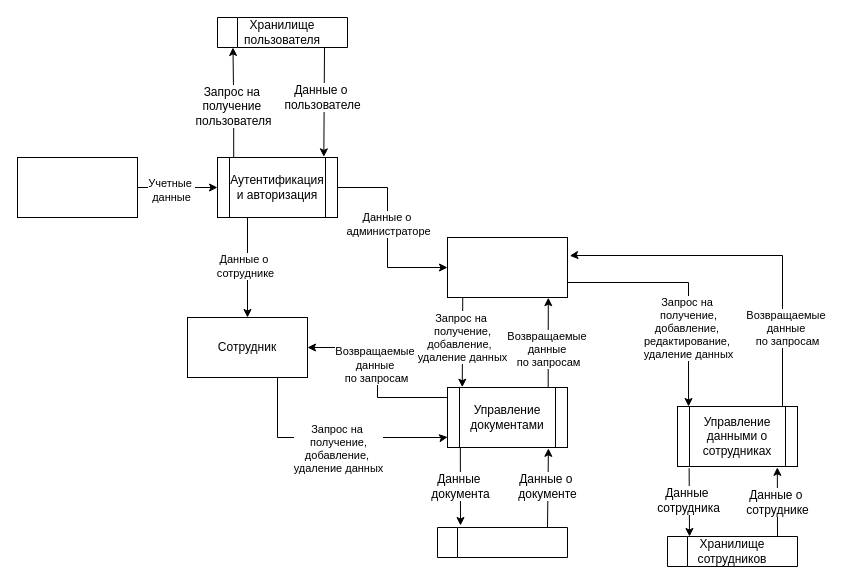
Image size: 845x584. Some labels were removed from this diagram. The centre of each missing label's shape, as x and y in pixels:
"Администратор" goes at (x=507, y=267).
"Пользователь" goes at (x=77, y=187).
"Хранилище документов" goes at (x=502, y=542).
